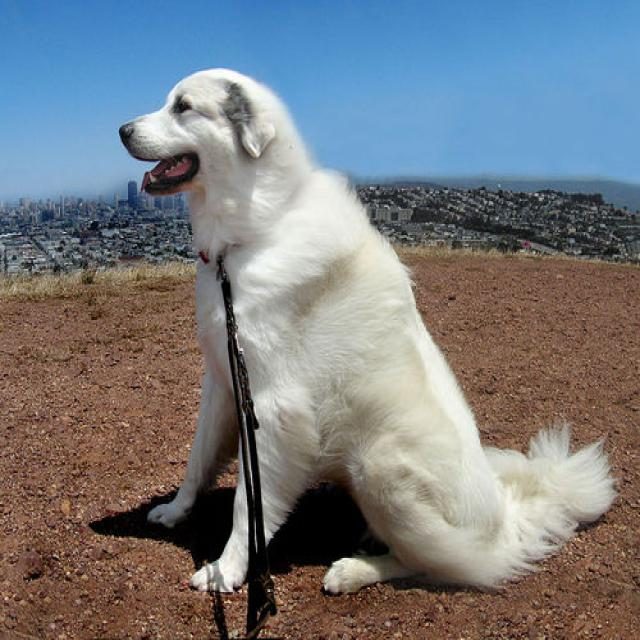dog-great_pyrenees: (113, 62, 620, 600)
